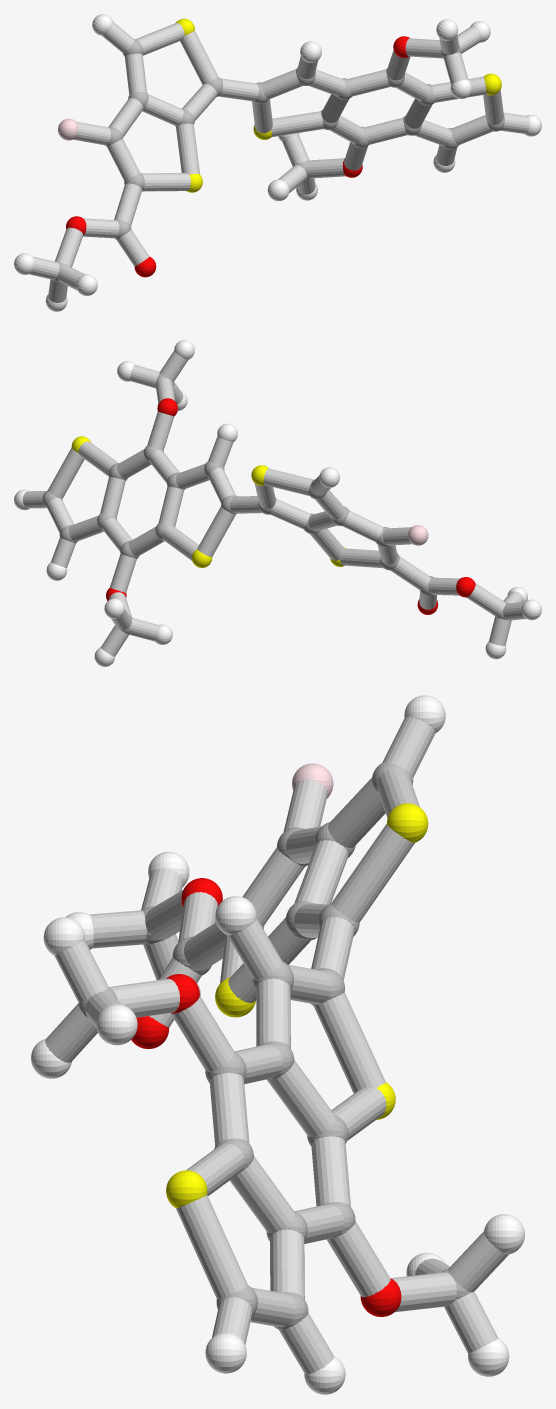
File: color.glb
3 views of the same model, one above another, from view 1: azimuth 30°, elevation 25°; view 2: azimuth 150°, elevation 25°; view 3: azimuth 270°, elevation 25° (orthographic). The views are drawn at different scales.
Visible parts, largest first — view 1: grp15205, grp8689, grp1, grp13395, grp7241, grp14843; view 2: grp15205, grp8689, grp1, grp13395, grp7241; view 3: grp15205, grp8689, grp1, grp7241, grp13395.
Boxes of the visible parts, x1,y1,x2,y2 form: grp15205: (29, 22, 529, 302); grp8689: (14, 14, 541, 311); grp1: (53, 39, 504, 282); grp13395: (66, 36, 409, 277); grp7241: (176, 18, 501, 192); grp14843: (58, 118, 78, 140); grp15205: (23, 351, 525, 656); grp8689: (14, 340, 541, 666); grp1: (42, 373, 509, 634); grp13395: (106, 398, 475, 614); grp7241: (71, 436, 345, 567); grp15205: (45, 716, 508, 1374); grp8689: (31, 695, 524, 1394); grp1: (78, 762, 471, 1330); grp7241: (166, 803, 428, 1208); grp13395: (131, 878, 401, 1316).
Size of the model in its own units: 17.09 by 7.7 by 7.16.
